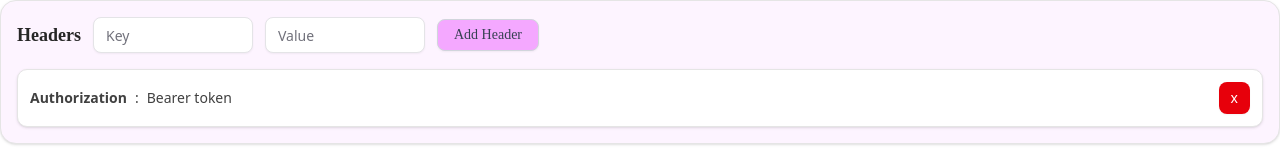
Test: RestHeaders › removes header when delete is clicked
Expected: the text "Authorization" is shown, [30, 88, 127, 108]
Click the button "x". click: (1234, 98)
box: [1219, 82, 1250, 114]
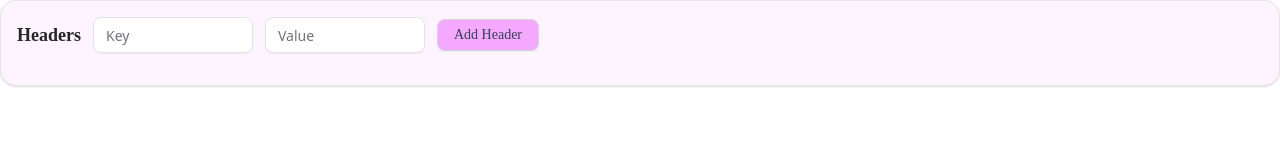
Expected: the text "Authorization" is gone
